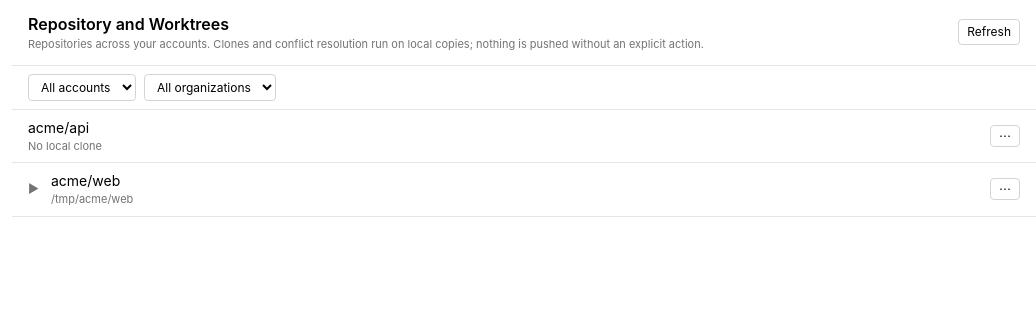
Test: Repos › deletes a worktree from its row's context menu and reloads the catalog
The width and height of the screenshot is (1036, 330).
Click the button named "Worktrees for acme/web" at (34, 189), box left=28, top=181, right=39, bottom=197
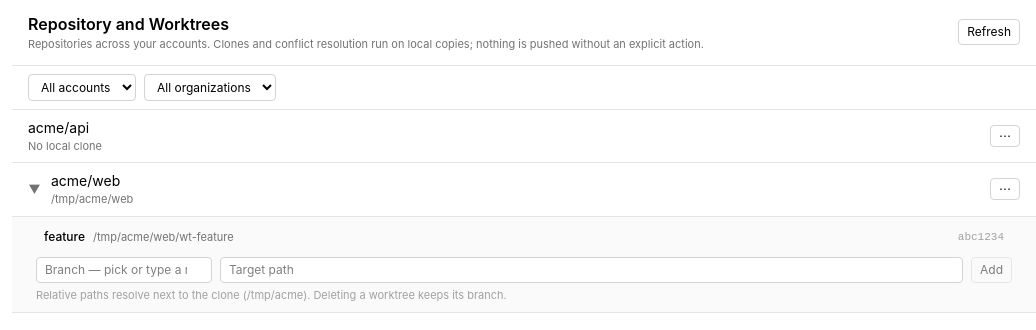
expect the text "feature" is shown: met, box left=44, top=229, right=85, bottom=245
Right-click the text "/tmp/acme/web/wt-feature" at (163, 236), box left=93, top=230, right=234, bottom=244
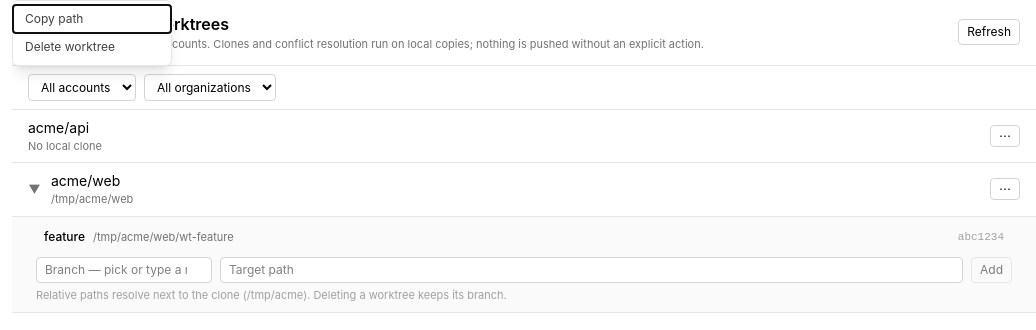
Click the menu item "Delete worktree" at (92, 47), box left=13, top=33, right=171, bottom=61
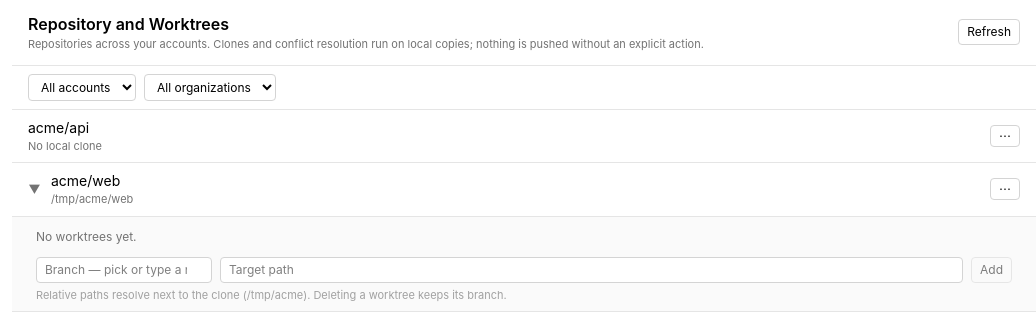
expect the text "wt-feature" is gone: met
expect the text "No worktrees yet." is shown: met, box left=36, top=228, right=136, bottom=244
